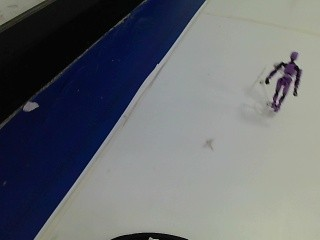pedestrian: (253, 44, 307, 123)
